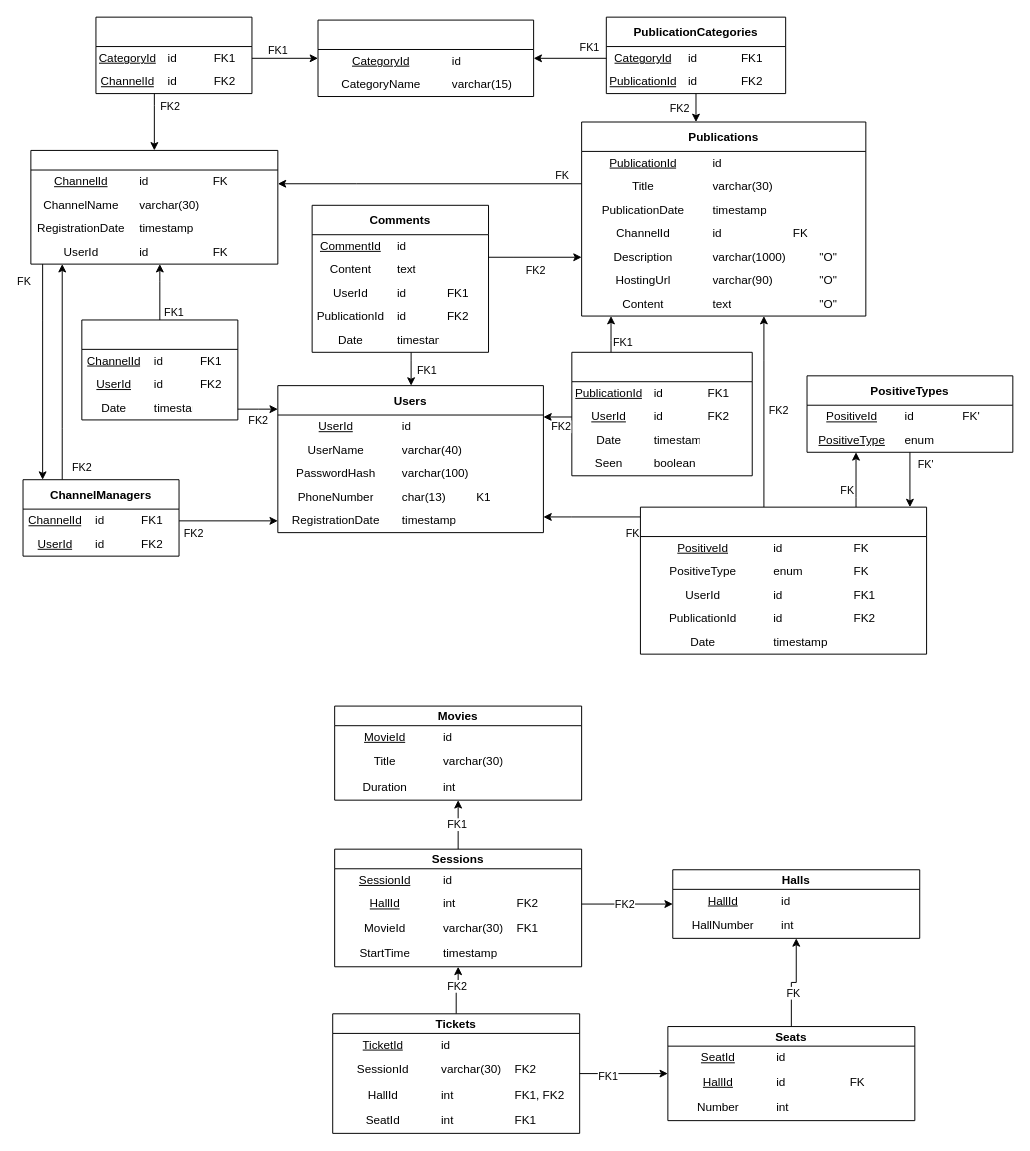
The diagram is 1030 pixels wide and 1151 high, and some of its shapes have lost their labels. The shapes that lost their labels are listed below. From the top down, each one's box as (x1, y1, x2, y2) in pixels, then its label:
(95, 16, 252, 94): ChannelCategories
(317, 19, 534, 97): Categories
(30, 149, 278, 264): Channels
(81, 319, 238, 420): Subscriptions
(571, 351, 752, 476): Bookmarks
(639, 506, 927, 654): Positives
